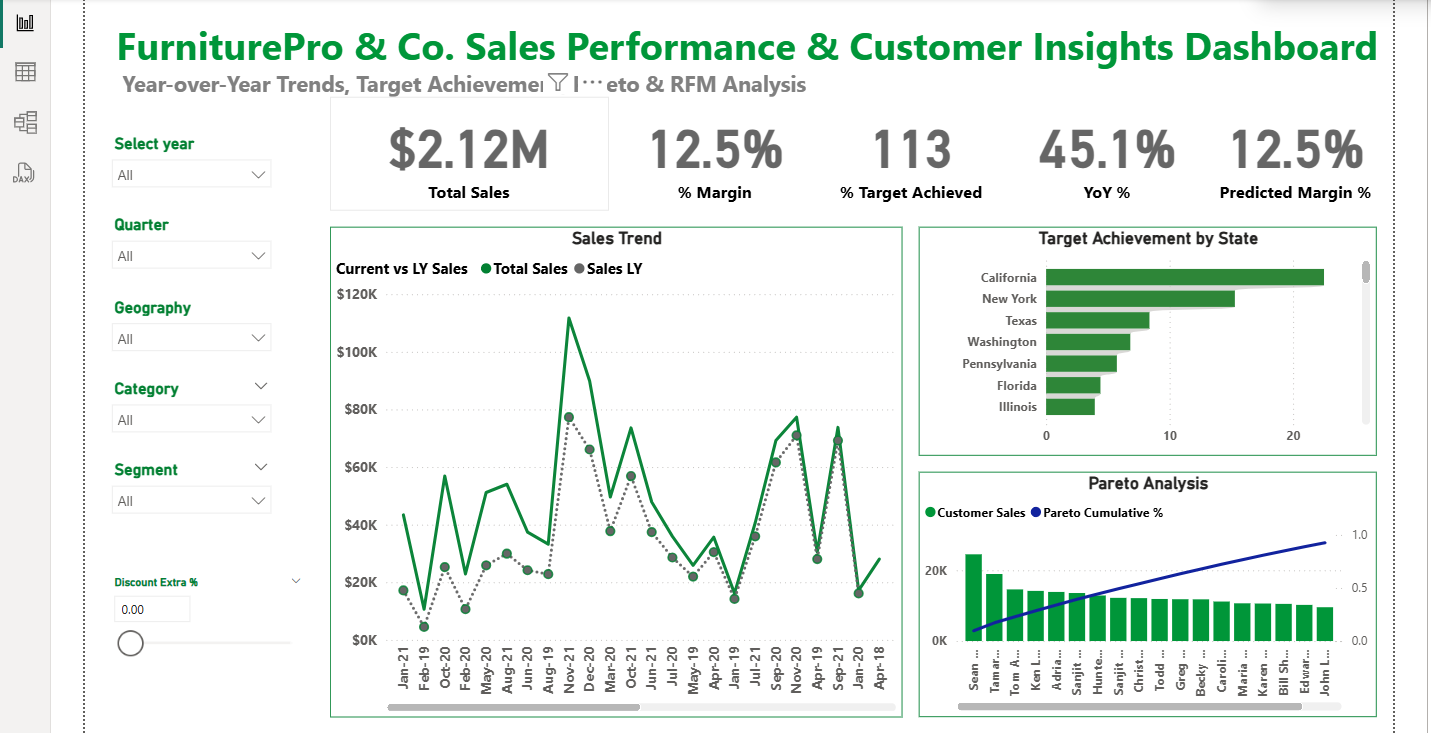

What the dashboard file says about the page in this screenshot:
{"tool":"powerbi","page":{"name":"Sales Performance","canvas":[1280,720],"ordinal":0},"visuals":[{"type":"textbox","box":[16,16,1264,64],"z":0},{"type":"textbox","box":[32,64,688,48],"z":1000},{"type":"card","fields":{"Values":["_Measures.Total Sales"]},"box":[240,96,272,112],"z":2000},{"type":"card","fields":{"Values":["_Measures.% Margin"]},"box":[528,96,176,112],"z":3000},{"type":"card","fields":{"Values":["_Measures.% Target Achieved"]},"box":[704,96,208,112],"z":4000},{"type":"card","fields":{"Values":["_Measures.YoY %"]},"box":[912,96,176,112],"z":5000},{"type":"slicer","fields":{"Values":["Date.Year","Date.Month Name"]},"box":[16,128,176,64],"z":6000},{"type":"slicer","fields":{"Values":["Geography.Region","Geography.Country","Geography.State","Geography.City"]},"box":[16,288,176,64],"z":7000},{"type":"slicer","fields":{"Values":["Product.Category","Product.Sub-Category"]},"box":[16,368,176,64],"z":8000},{"type":"slicer","fields":{"Values":["Orders.Segment"]},"box":[16,448,176,64],"z":9000},{"type":"slicer","fields":{"Values":["Date.Quarter"]},"box":[16,208,176,64],"z":10000},{"type":"lineChart","title":"Sales Trend ","fields":{"Y":["_Measures.Total Sales","_Measures.Sales LY"],"Category":["Date.Month-Year"]},"box":[240,224,560,480],"z":11000},{"type":"barChart","title":"Target Achievement by State","fields":{"Y":["_Measures.% Target Achieved"],"Category":["Geography.State"]},"box":[816,224,448,224],"z":12000},{"type":"slicer","fields":{"Values":["Discount Extra %.Discount Extra %"]},"box":[16,560,208,112],"z":13000},{"type":"card","fields":{"Values":["_Measures.Predicted Margin %"]},"box":[1088,96,192,112],"z":14000},{"type":"lineClusteredColumnComboChart","title":"Pareto Analysis","fields":{"Category":["Customer.Customer Name"],"Y":["_Measures.Customer Sales"],"Y2":["_Measures.Pareto Cumulative %"]},"box":[816,464,448,240],"z":15000}]}

Visuals, with their boxes on the page's 1280x720 design canvas (x1, y1, x2, y2). These are canvas units, not pixel positions in the 1431x733 screenshot, which may show the page scaled, cropped or inside an application window:
textbox: bbox(16, 16, 1280, 80)
textbox: bbox(32, 64, 720, 112)
card - _Measures.Total Sales: bbox(240, 96, 512, 208)
card - _Measures.% Margin: bbox(528, 96, 704, 208)
card - _Measures.% Target Achieved: bbox(704, 96, 912, 208)
card - _Measures.YoY %: bbox(912, 96, 1088, 208)
slicer - Date.Year x Date.Month Name: bbox(16, 128, 192, 192)
slicer - Geography.Region x Geography.Country: bbox(16, 288, 192, 352)
slicer - Product.Category x Product.Sub-Category: bbox(16, 368, 192, 432)
slicer - Orders.Segment: bbox(16, 448, 192, 512)
slicer - Date.Quarter: bbox(16, 208, 192, 272)
"Sales Trend " lineChart: bbox(240, 224, 800, 704)
"Target Achievement by State" barChart: bbox(816, 224, 1264, 448)
slicer - Discount Extra %.Discount Extra %: bbox(16, 560, 224, 672)
card - _Measures.Predicted Margin %: bbox(1088, 96, 1280, 208)
"Pareto Analysis" lineClusteredColumnComboChart: bbox(816, 464, 1264, 704)
